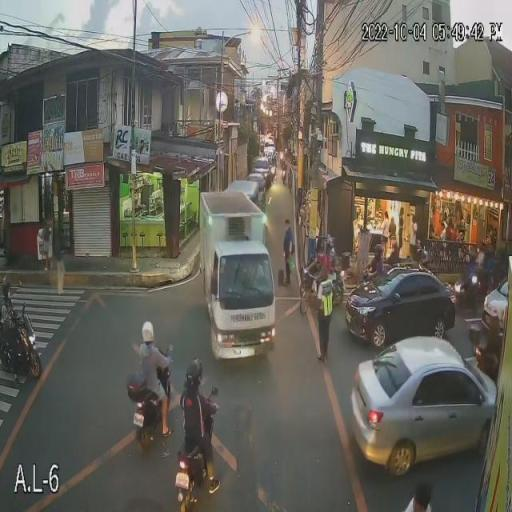helmet: (184, 357, 206, 391), (140, 320, 155, 343), (373, 243, 384, 260)
motorcycle: (128, 382, 174, 443), (0, 317, 43, 379), (173, 452, 209, 512), (357, 267, 371, 285)
rider: (179, 394, 221, 496), (143, 345, 173, 436), (1, 300, 20, 370), (370, 257, 384, 274)
